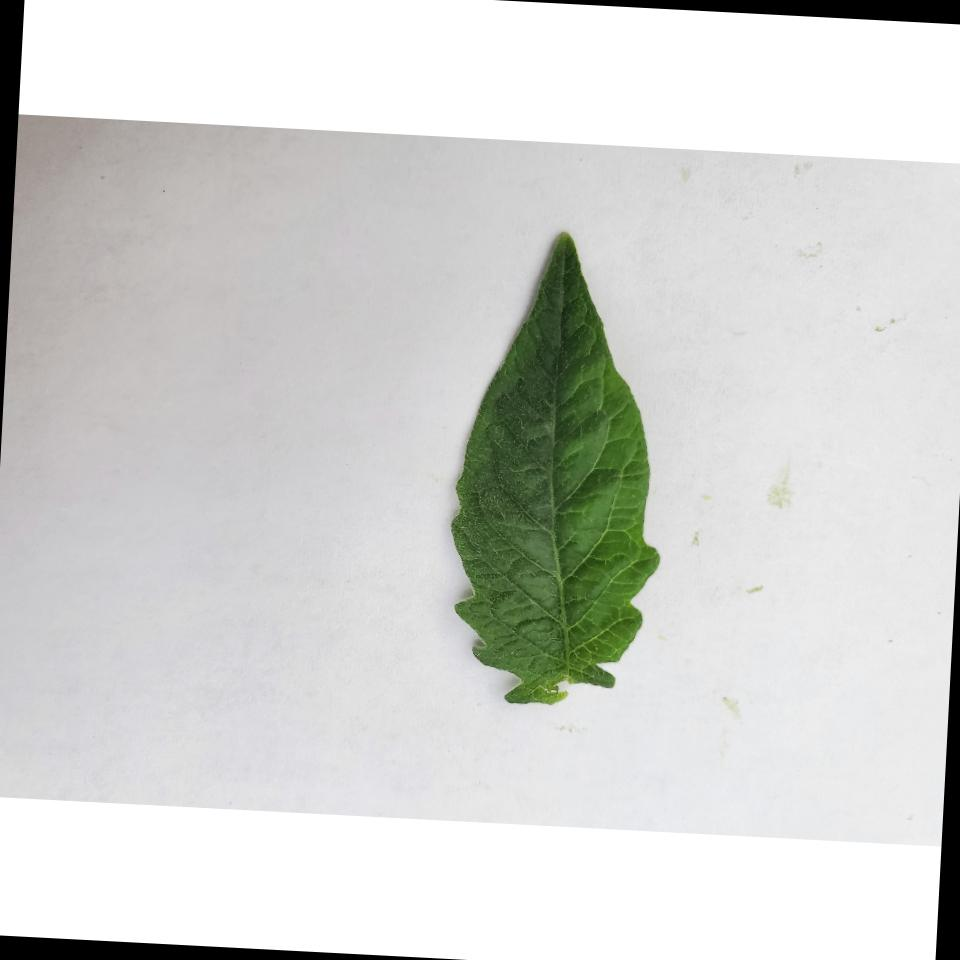tomato_leaves: (446, 227, 675, 712)
